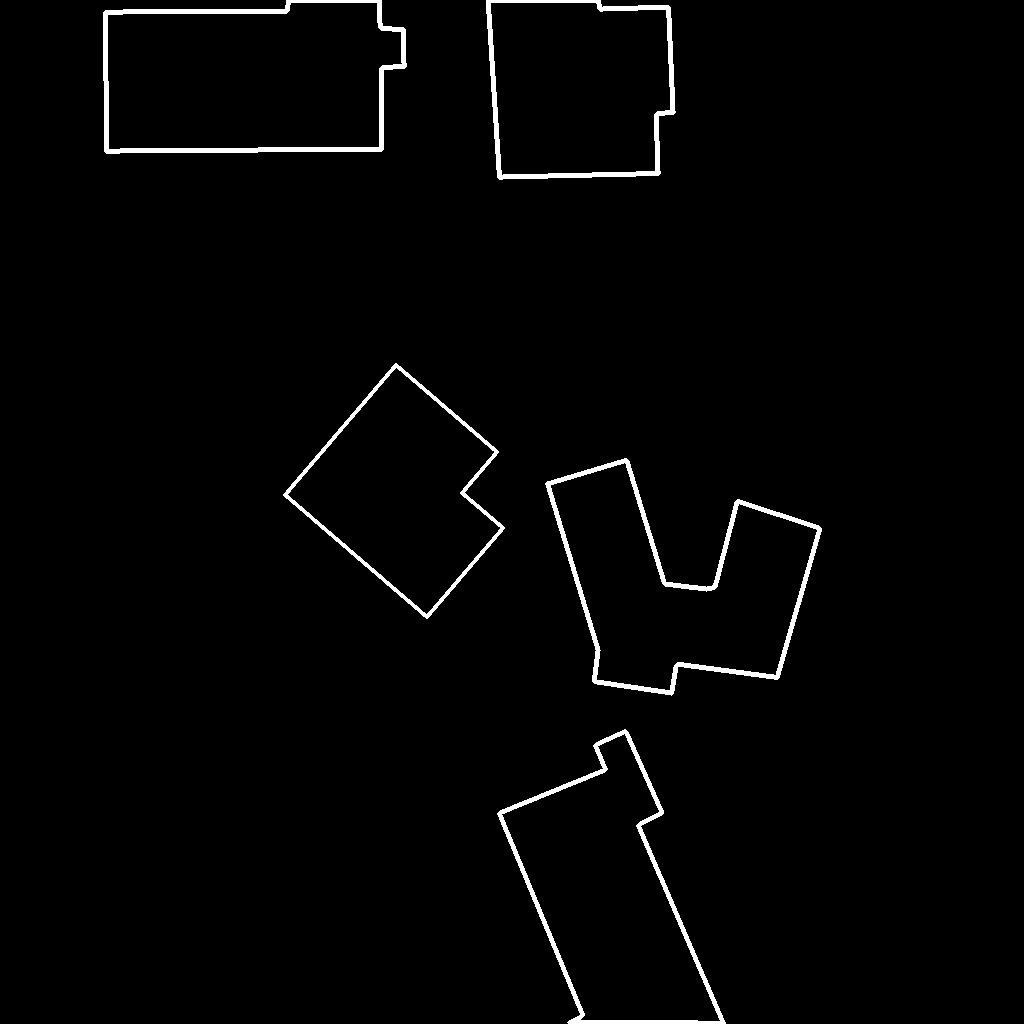building: (499, 731, 725, 1024), (547, 460, 821, 694), (285, 365, 504, 618), (105, 0, 405, 152), (488, 0, 674, 178)
